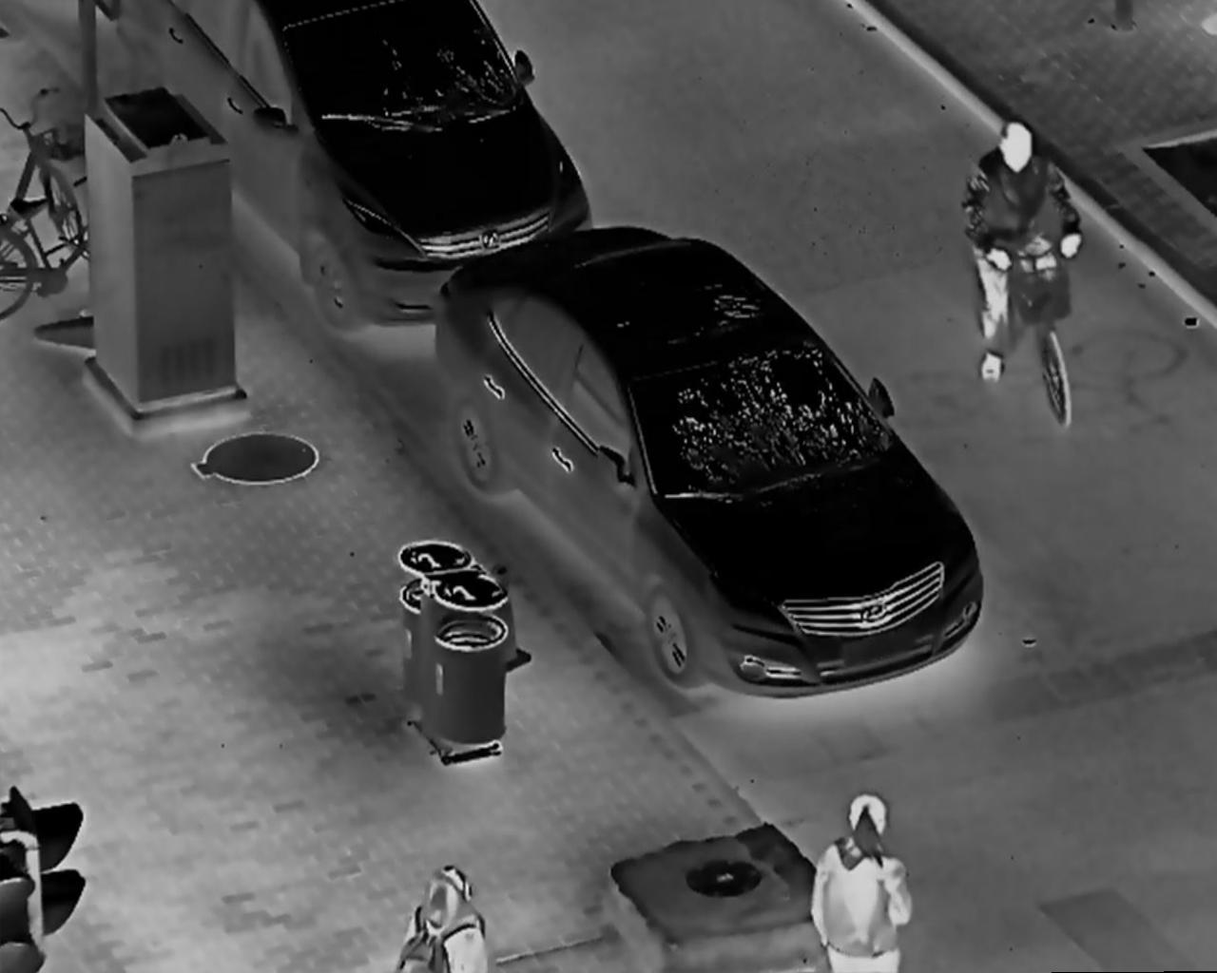person: (959, 119, 1087, 383), (812, 791, 917, 973), (393, 862, 497, 973)
